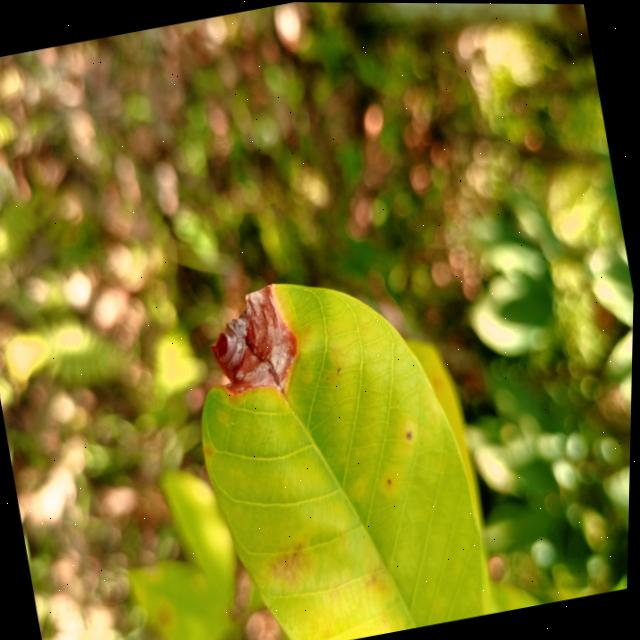Colletotrichum: (407, 429, 415, 438)
Leaf-Blight: (200, 278, 311, 406)
